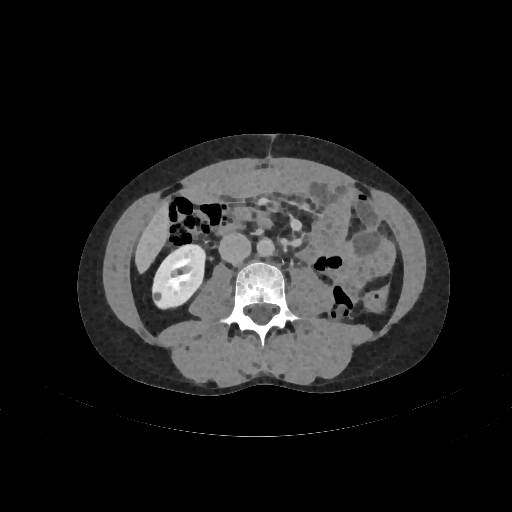Lesion: (152, 287, 167, 303)
